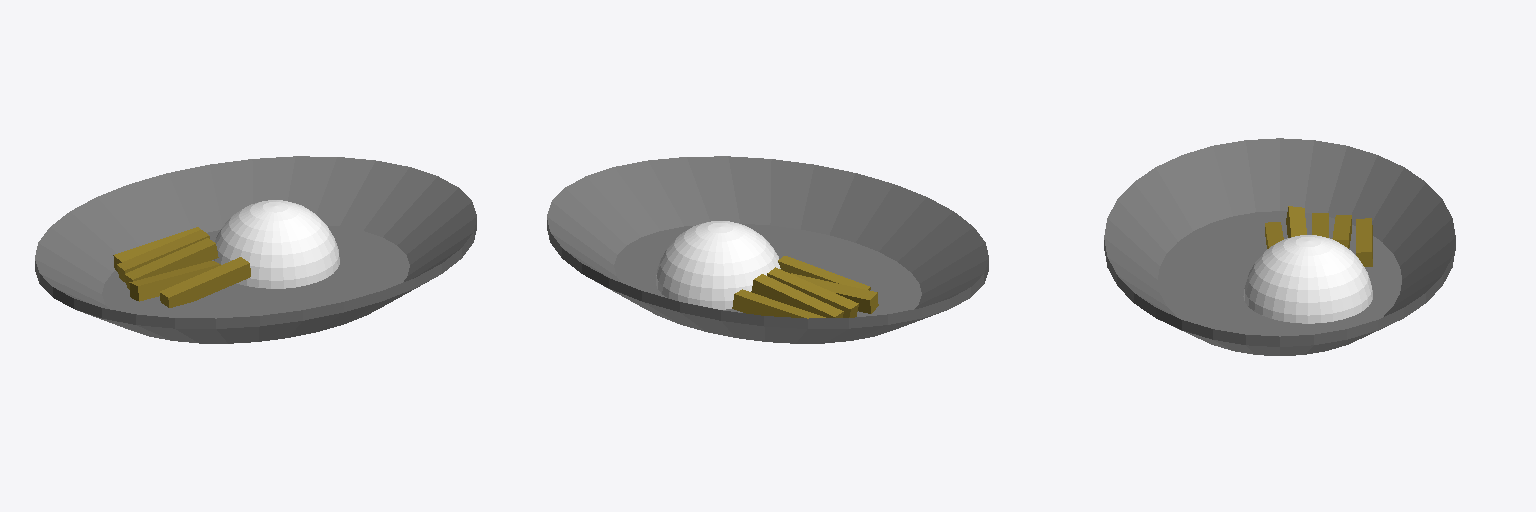
The model's file is rice1_meat2_veg0.obj.
3 renders of one model, left to right at view 1: azimuth 30°, elevation 25°; view 2: azimuth 150°, elevation 25°; view 3: azimuth 270°, elevation 25°, orthographic.
Visible parts, largest first — view 1: Cylinder, Sphere, Cube.004_Cube.005, Cube.001_Cube.002, Cube.002_Cube.003, Cube_Cube.001, Cube.003_Cube.004; view 2: Cylinder, Sphere, Cube_Cube.001, Cube.003_Cube.004, Cube.001_Cube.002, Cube.002_Cube.003, Cube.004_Cube.005; view 3: Cylinder, Sphere, Cube.003_Cube.004, Cube.002_Cube.003.
Part boxes in pixels (x1,y1,x2,y2): Cylinder: (35,156,476,343); Sphere: (212,200,339,288); Cube.004_Cube.005: (160,257,250,307); Cube.001_Cube.002: (125,238,218,289); Cube.002_Cube.003: (129,261,220,301); Cube_Cube.001: (117,230,209,282); Cube.003_Cube.004: (113,227,200,271); Cylinder: (547,156,988,343); Sphere: (656,221,780,309); Cube_Cube.001: (751,274,843,317); Cube.003_Cube.004: (732,289,825,318); Cube.001_Cube.002: (767,267,858,317); Cube.002_Cube.003: (791,273,878,313); Cube.004_Cube.005: (778,256,870,290); Cylinder: (1104,138,1455,355); Sphere: (1243,235,1372,323); Cube.003_Cube.004: (1356,218,1372,266); Cube.002_Cube.003: (1286,206,1306,237).
Size of the model in its own units: 5.75 by 0.85 by 4.31.